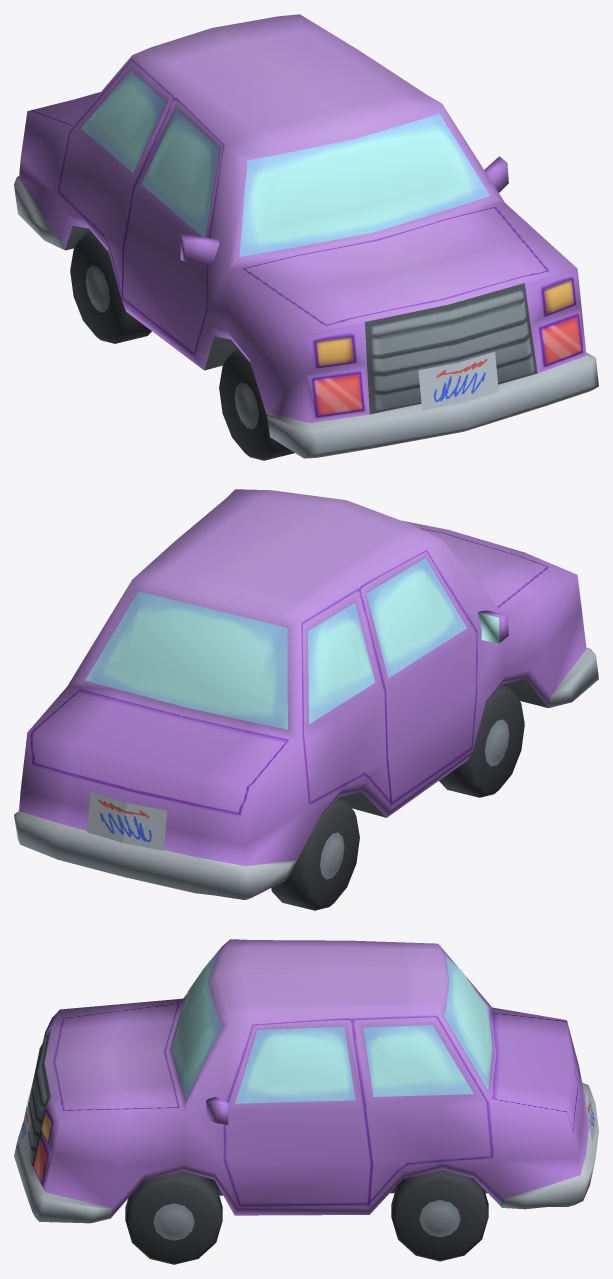
Rendered from Car.fbx.
3 renders of one model, top to bottom at view 1: azimuth 30°, elevation 25°; view 2: azimuth 150°, elevation 25°; view 3: azimuth 270°, elevation 25°, orthographic. The views are drawn at different scales.
Visible parts, largest first — view 1: Cube; view 2: Cube; view 3: Cube.
Boxes of the visible parts, <box> form: Cube: <box>14,14,598,460</box>; Cube: <box>14,489,598,910</box>; Cube: <box>14,939,598,1264</box>.
Bounding box in the file's own units: 476 × 404 × 878.
Materials: 1 (1 with a texture image).
